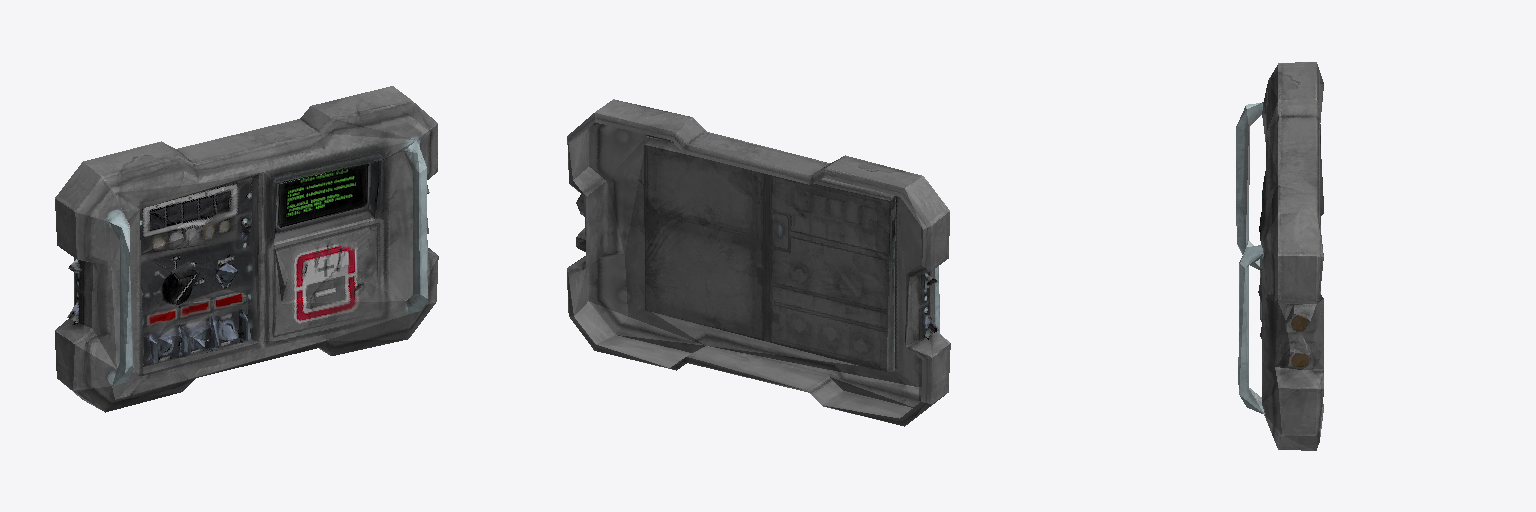
3 views of the same model, side by side, from view 1: azimuth 30°, elevation 25°; view 2: azimuth 150°, elevation 25°; view 3: azimuth 270°, elevation 25° (orthographic).
Visible parts, largest first — view 1: pMesh1; view 2: pMesh1; view 3: pMesh1.
Part boxes in pixels (x1,y1,x2,y2): pMesh1: (55, 86, 438, 412); pMesh1: (567, 99, 950, 426); pMesh1: (1236, 62, 1323, 450).
Bounding box in the file's own units: 2.02 × 1.27 × 0.4255.
Materials: 1 (1 with a texture image).